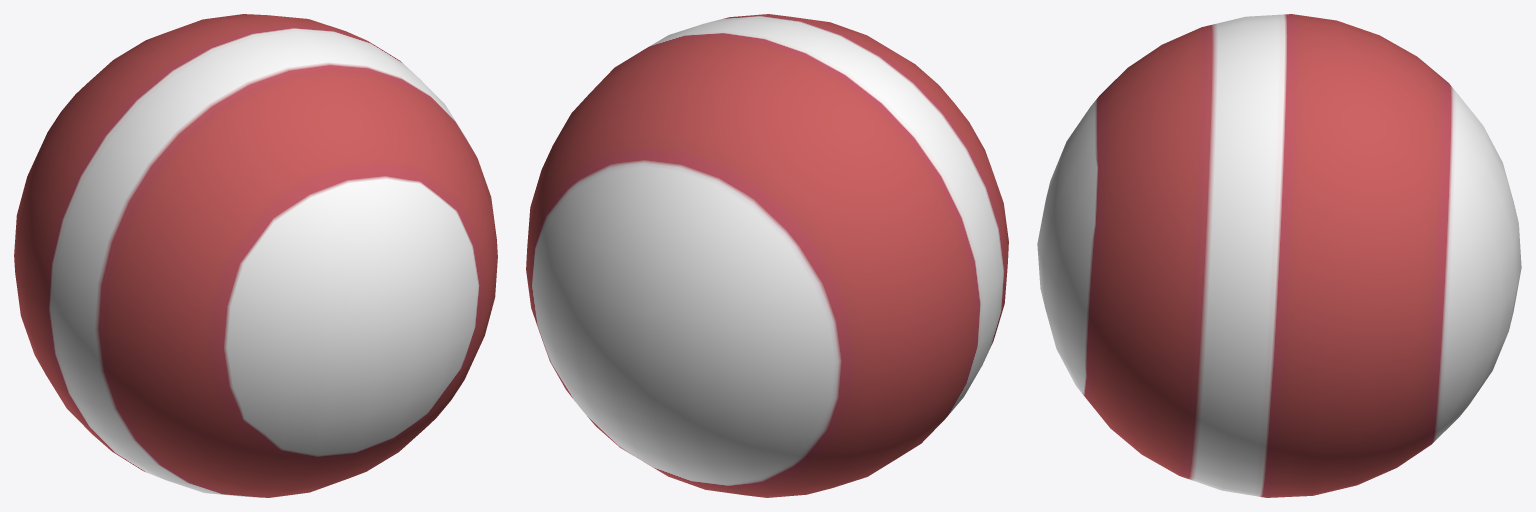
The model's file is Bobber.fbx.
3 views of the same model, side by side, from view 1: azimuth 30°, elevation 25°; view 2: azimuth 150°, elevation 25°; view 3: azimuth 270°, elevation 25° (orthographic).
Parts seen in each view (by area): view 1: Animation; view 2: Animation; view 3: Animation.
Boxes of the visible parts, box(x1,y1,x2,y2) form: Animation: box(14, 14, 497, 497); Animation: box(526, 14, 1008, 497); Animation: box(1037, 14, 1521, 497).
Size of the model in its own units: 0.35 by 0.3495 by 0.3495.
1 material, 1 textured.
